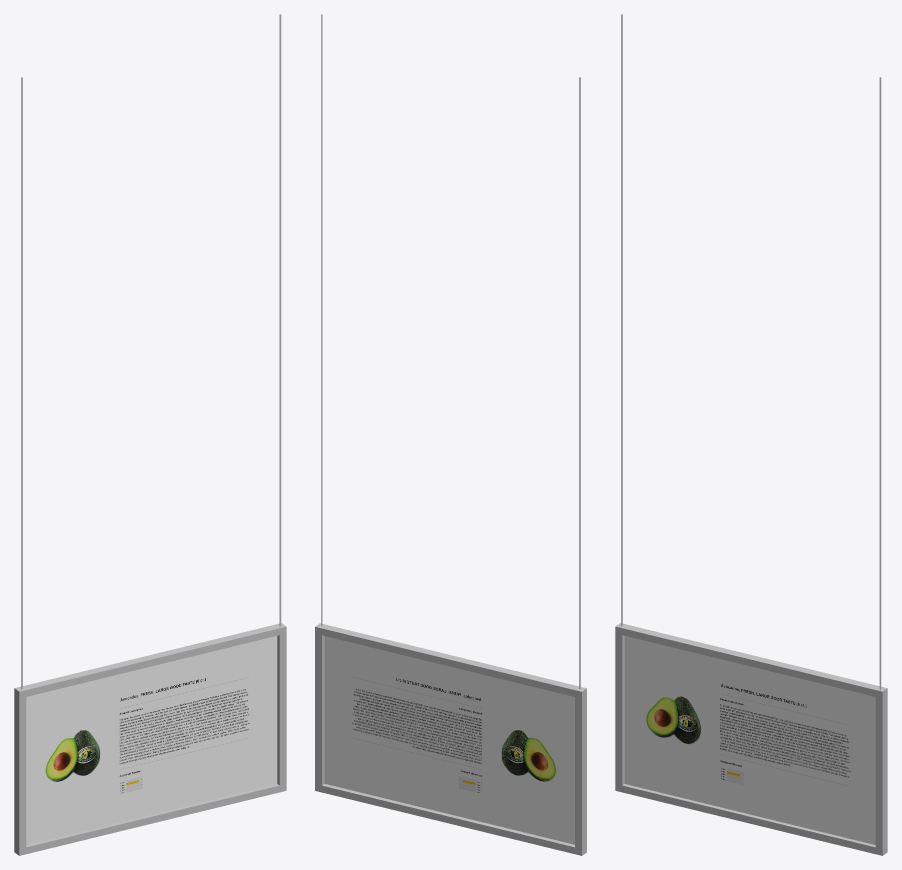
File: product_sign.fbx
3 views of the same model, side by side, from view 1: azimuth 30°, elevation 25°; view 2: azimuth 150°, elevation 25°; view 3: azimuth 330°, elevation 25° (orthographic).
Parts seen in each view (by area): view 1: Avocado Product Description, Avocado Product Description.001, Cylinder.001, Cylinder; view 2: Avocado Product Description, Avocado Product Description.001, Cylinder.001, Cylinder; view 3: Avocado Product Description, Avocado Product Description.001, Cylinder.001, Cylinder.
Part boxes in pixels (x1,y1,x2,y2): Avocado Product Description: (26,636,277,844); Avocado Product Description.001: (14,623,286,855); Cylinder.001: (279,14,281,626); Cylinder: (21,77,22,689); Avocado Product Description: (324,636,574,844); Avocado Product Description.001: (315,623,586,855); Cylinder.001: (321,14,322,625); Cylinder: (579,77,580,688); Avocado Product Description: (624,636,875,844); Avocado Product Description.001: (615,623,887,855); Cylinder.001: (879,77,881,689); Cylinder: (621,14,622,626).
Size of the model in its own units: 184 by 512 by 5.84.
